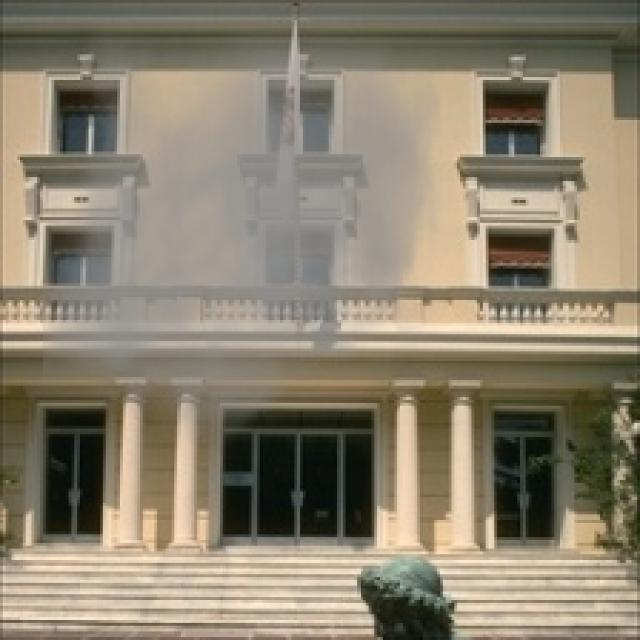smoke: (43, 32, 443, 457)
